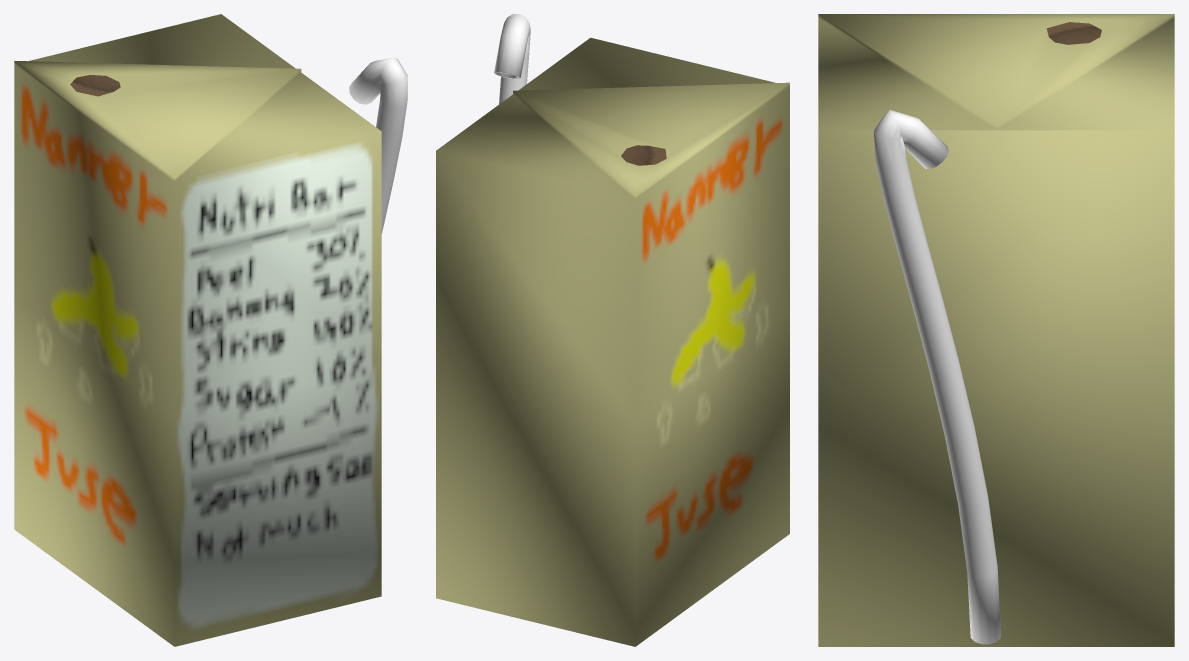
File: item-nanner-juse.glb
3 renders of one model, left to right at view 1: azimuth 30°, elevation 25°; view 2: azimuth 150°, elevation 25°; view 3: azimuth 270°, elevation 25°, orthographic. The views are drawn at different scales.
Size of the model in its own units: 0.0768 by 0.14 by 0.0808.
Materials: 3 (2 with a texture image).
